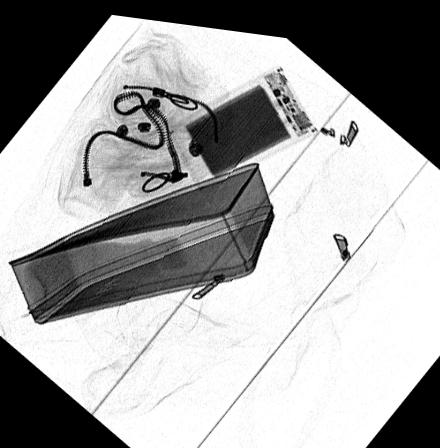Powerbank: (165, 56, 315, 184)
